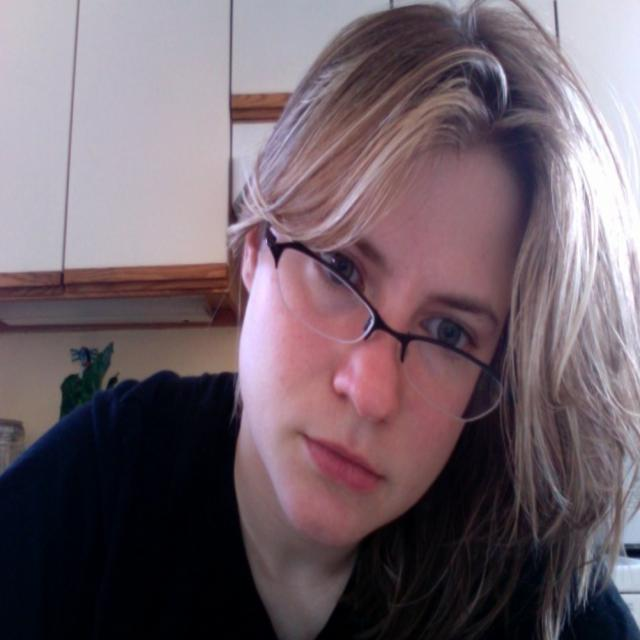Glasses: (264, 221, 505, 424)
